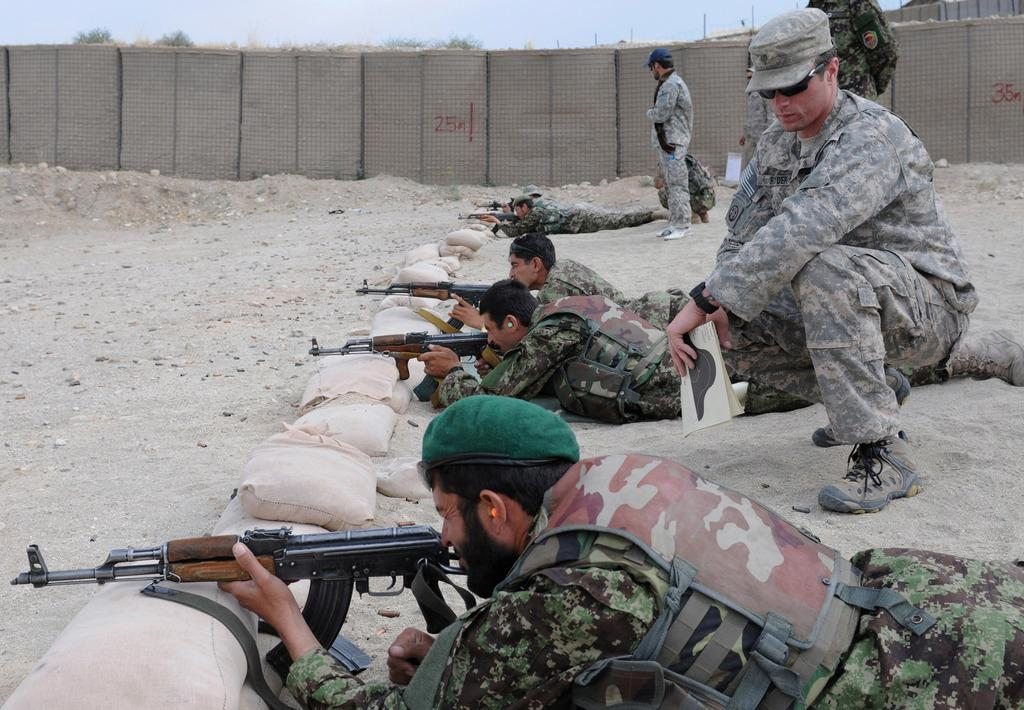Rifle: (10, 519, 468, 687), (307, 331, 504, 404), (355, 276, 500, 334), (457, 205, 522, 235), (476, 194, 517, 214)
